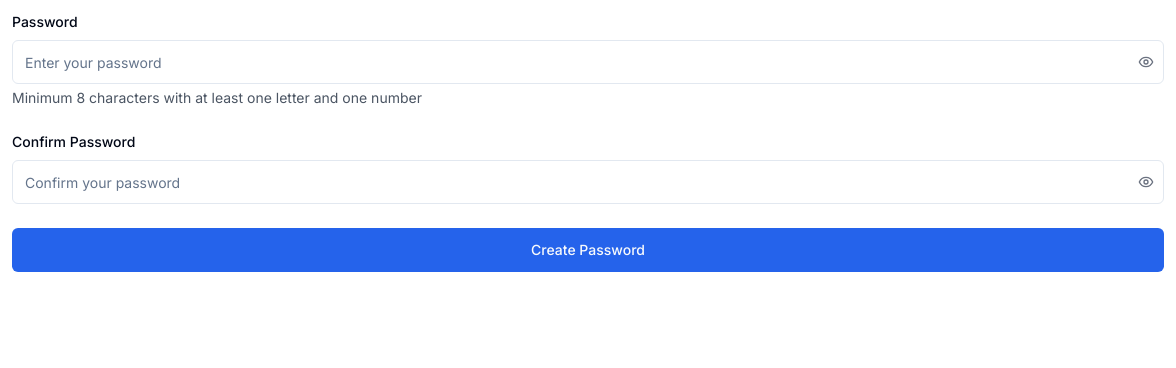
Test case: PasswordCreationForm › submission › should show generic error message when API returns no error details
Type "ValidPass123" into the password field labelled "Password" at (588, 62), box [12,40,1164,84]
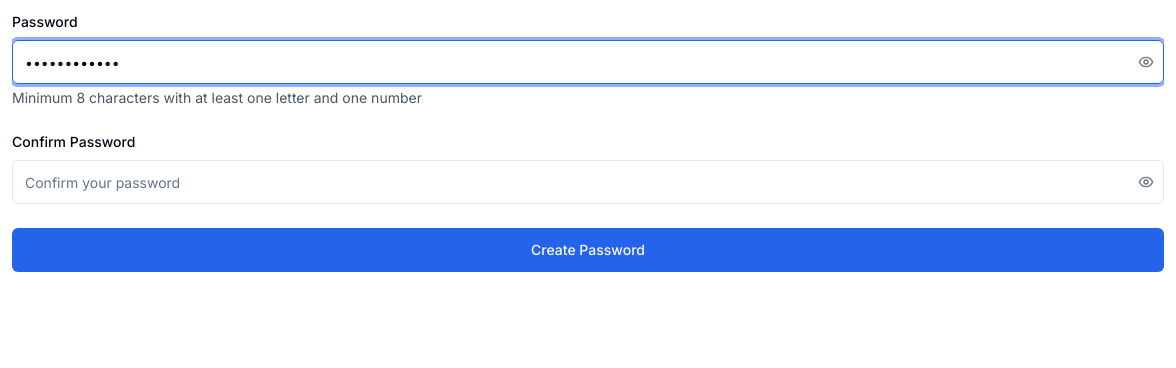
Type "ValidPass123" into the password field labelled "Confirm Password" at (588, 182), box [12,160,1164,204]
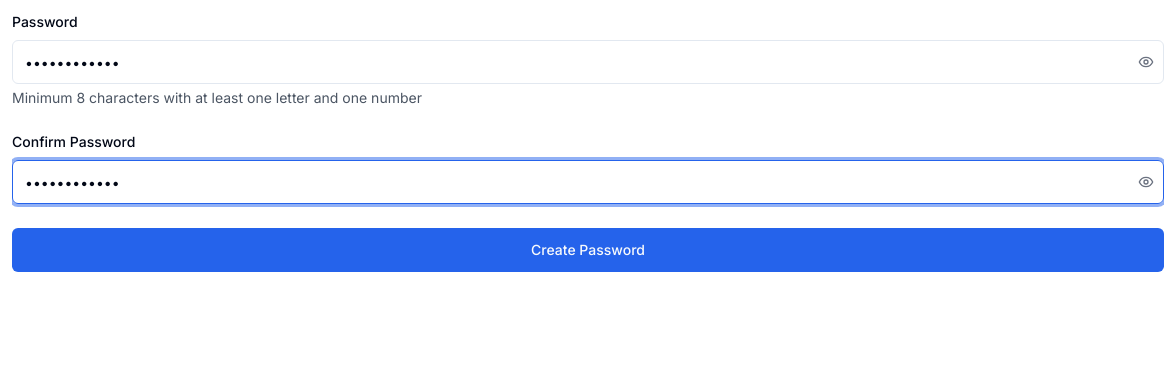
Click the button "Create Password" at (588, 250), box [12,228,1164,272]
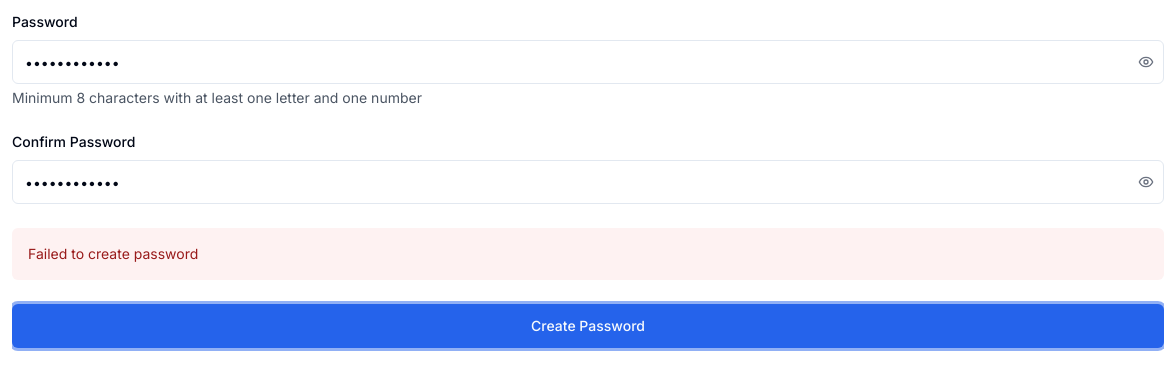
Now the text "Failed to create password" is shown, box [28,245,198,262]
